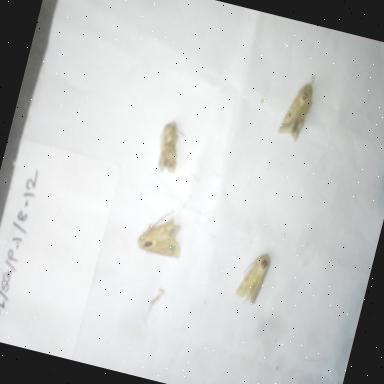abw: (124, 200, 194, 266), (272, 64, 324, 147), (144, 107, 197, 184), (228, 246, 276, 314)
